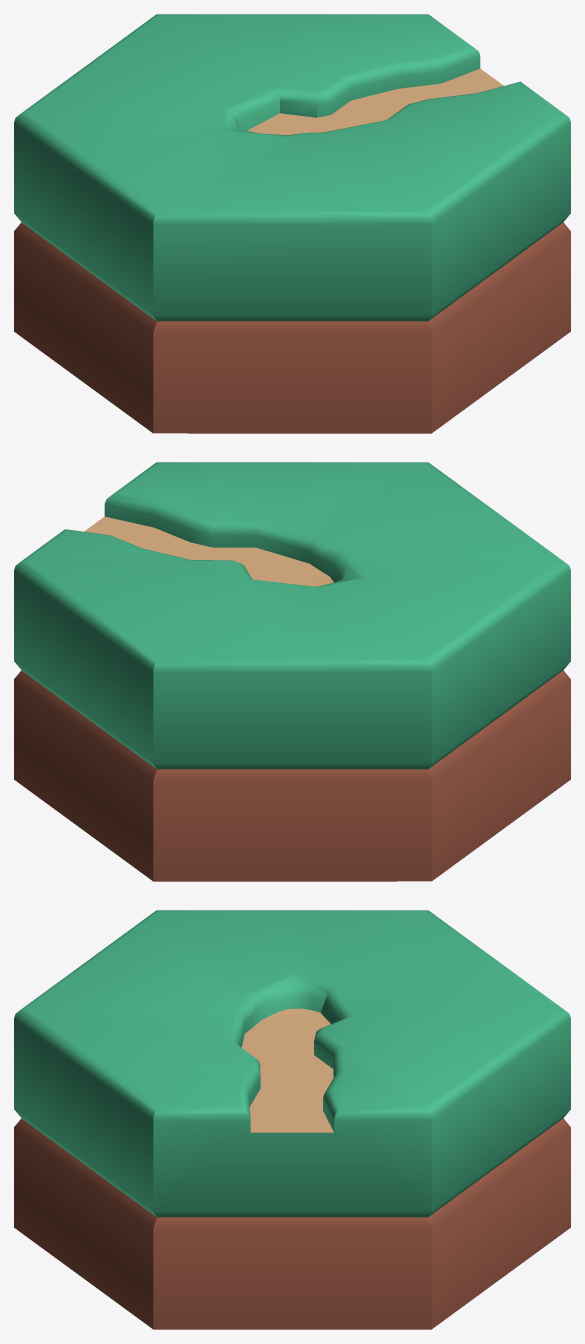
Rendered from hex_forest_roadA_detail.glb.
The picture shows the model from 3 angles, top to bottom: view 1: azimuth 30°, elevation 25°; view 2: azimuth 150°, elevation 25°; view 3: azimuth 270°, elevation 25°; orthographic projection.
Visible parts, largest first — view 1: hex_forest_roadA_detail; view 2: hex_forest_roadA_detail; view 3: hex_forest_roadA_detail.
Boxes of the visible parts, box(x1,y1,x2,y2) form: hex_forest_roadA_detail: box(14, 14, 570, 433); hex_forest_roadA_detail: box(14, 462, 570, 881); hex_forest_roadA_detail: box(14, 910, 570, 1329).
Size of the model in its own units: 2 by 1 by 2.31.
